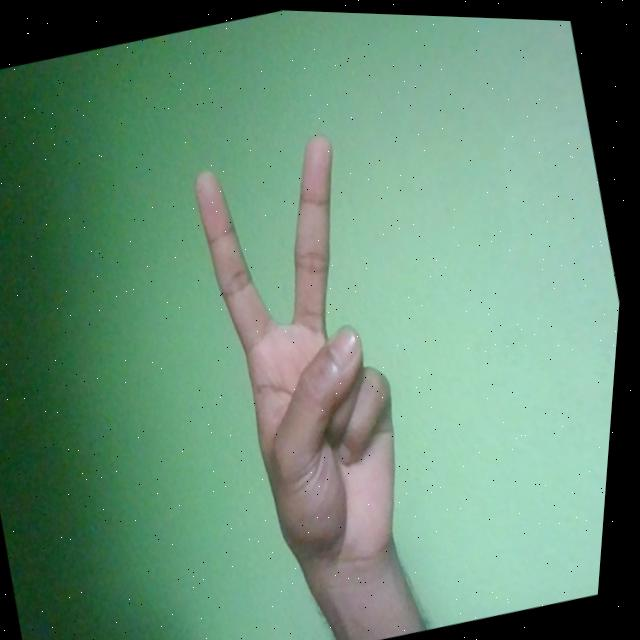Peace: (166, 121, 456, 599)
